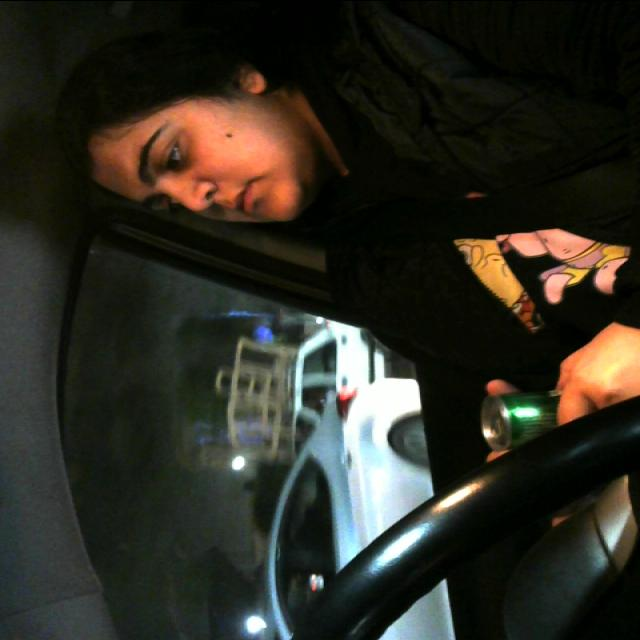drinking: (473, 386, 640, 446)
